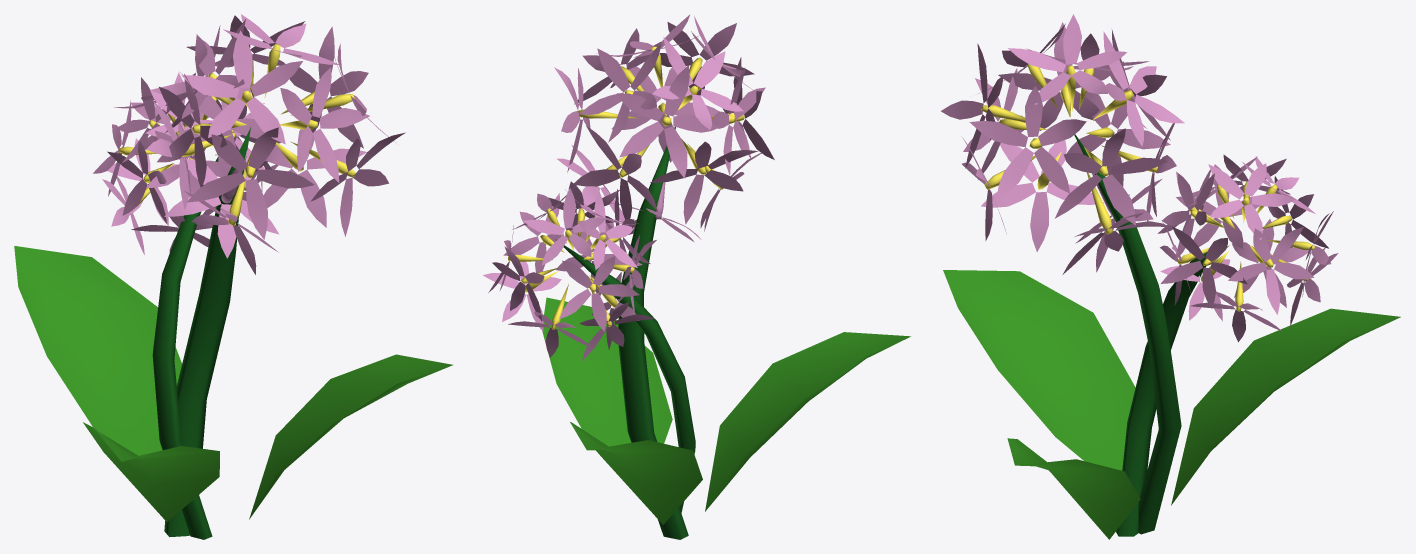
The model's file is fleur 9.fbx.
3 renders of one model, left to right at view 1: azimuth 30°, elevation 25°; view 2: azimuth 150°, elevation 25°; view 3: azimuth 270°, elevation 25°, orthographic. The views are drawn at different scales.
Visible parts, largest first — view 1: Flower.003; view 2: Flower.003; view 3: Flower.003.
Boxes of the visible parts, x1,y1,x2,y2 form: Flower.003: [14, 14, 452, 539]; Flower.003: [483, 14, 910, 539]; Flower.003: [941, 14, 1400, 539].
Bounding box in the file's own units: 0.3137 × 0.4287 × 0.3468.
